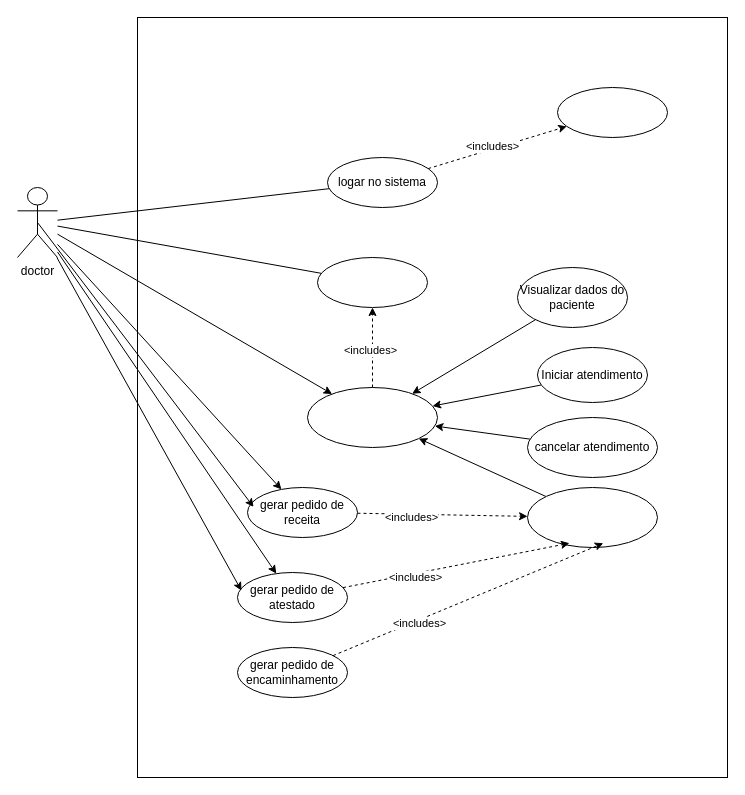
This 745x795 diagram has some shape labels left out. The centre of each missing label's shape, as x and y in pixels:
finalizar atendimento: point (592, 517)
realizar cadastro: point (612, 112)
Selecionar paciente: point (372, 417)
visualizar fila de pacientes: point (372, 282)
